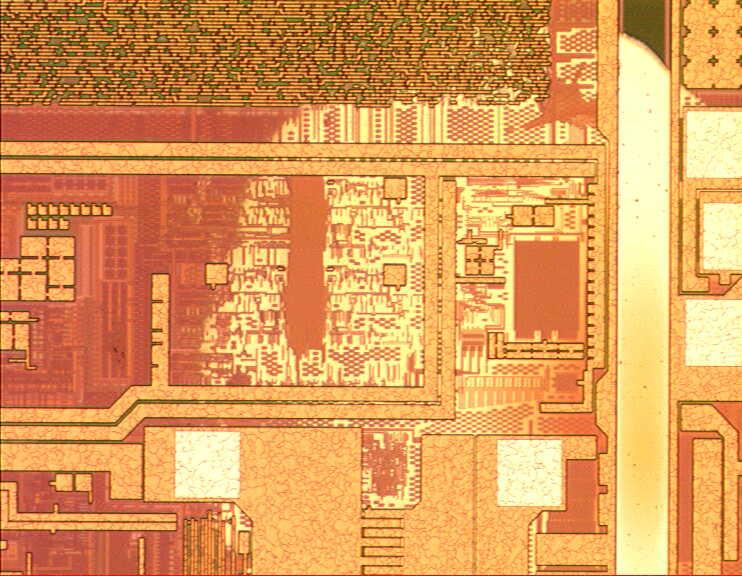BLOCK ETCH: (195, 20, 742, 576)
